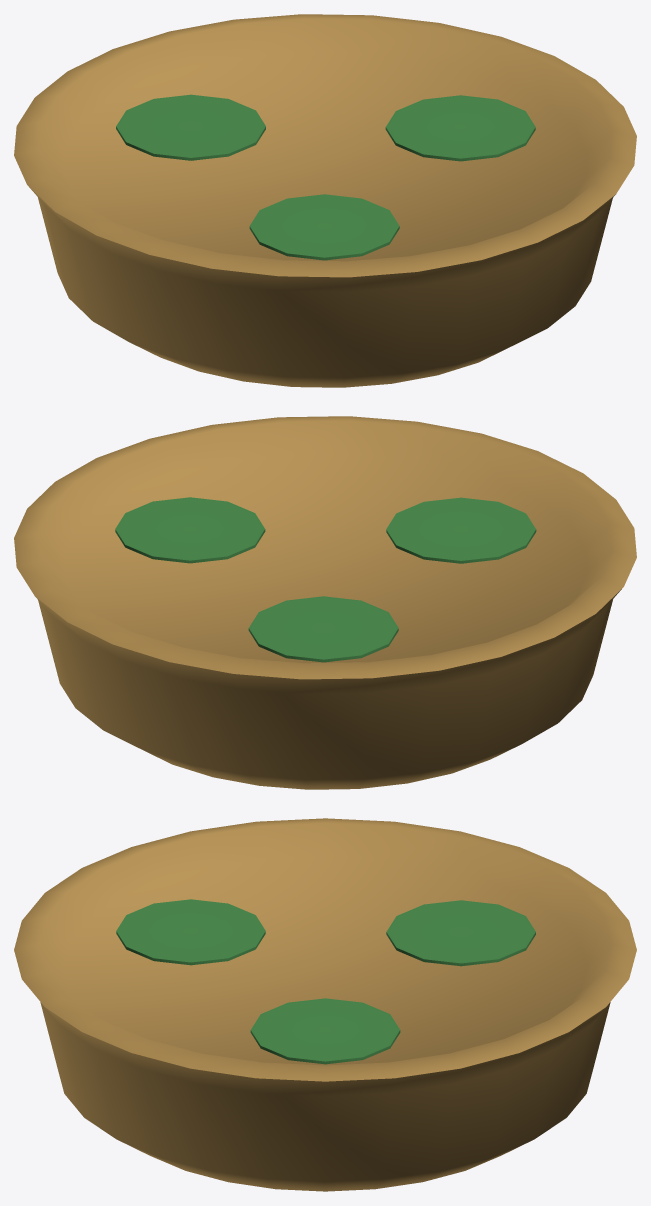
The model's file is fe-carpbasin.glb.
3 renders of one model, top to bottom at view 1: azimuth 30°, elevation 25°; view 2: azimuth 150°, elevation 25°; view 3: azimuth 270°, elevation 25°, orthographic.
Parts seen in each view (by area): view 1: fe-carpbasin; view 2: fe-carpbasin; view 3: fe-carpbasin.
Part boxes in pixels (bbox=[...]): fe-carpbasin: bbox=[14, 14, 636, 387]; fe-carpbasin: bbox=[14, 416, 636, 789]; fe-carpbasin: bbox=[14, 818, 636, 1191].
Size of the model in its own units: 1 by 0.27 by 1.
